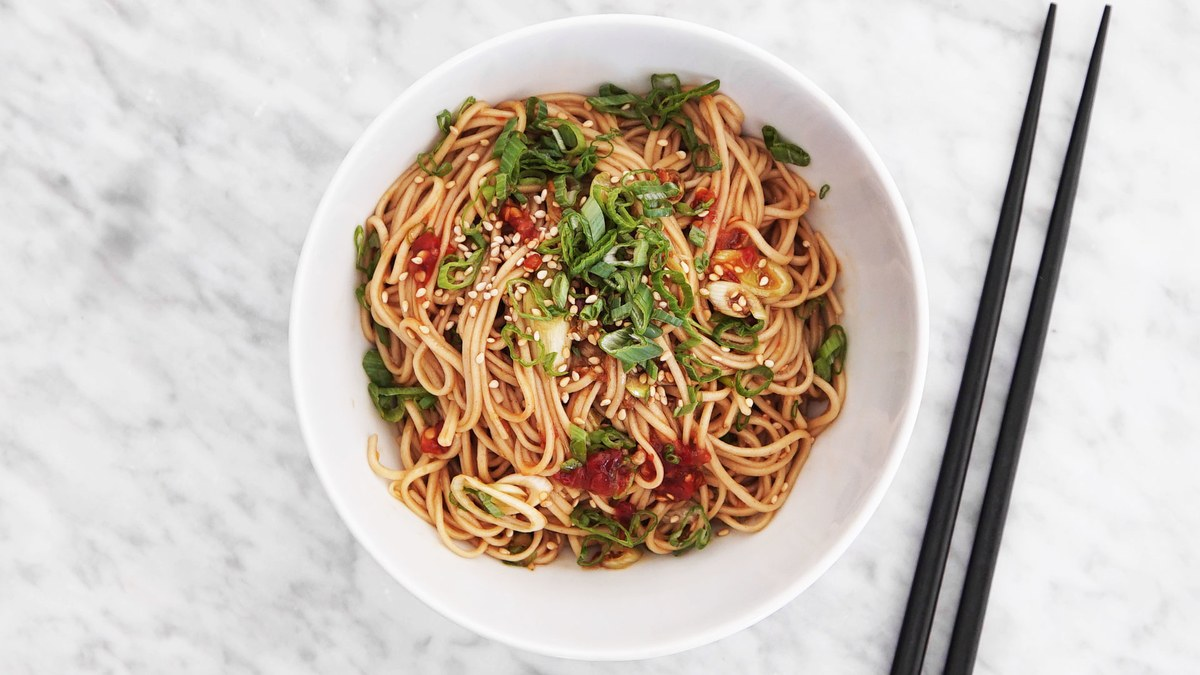Soba: (379, 90, 856, 569)
